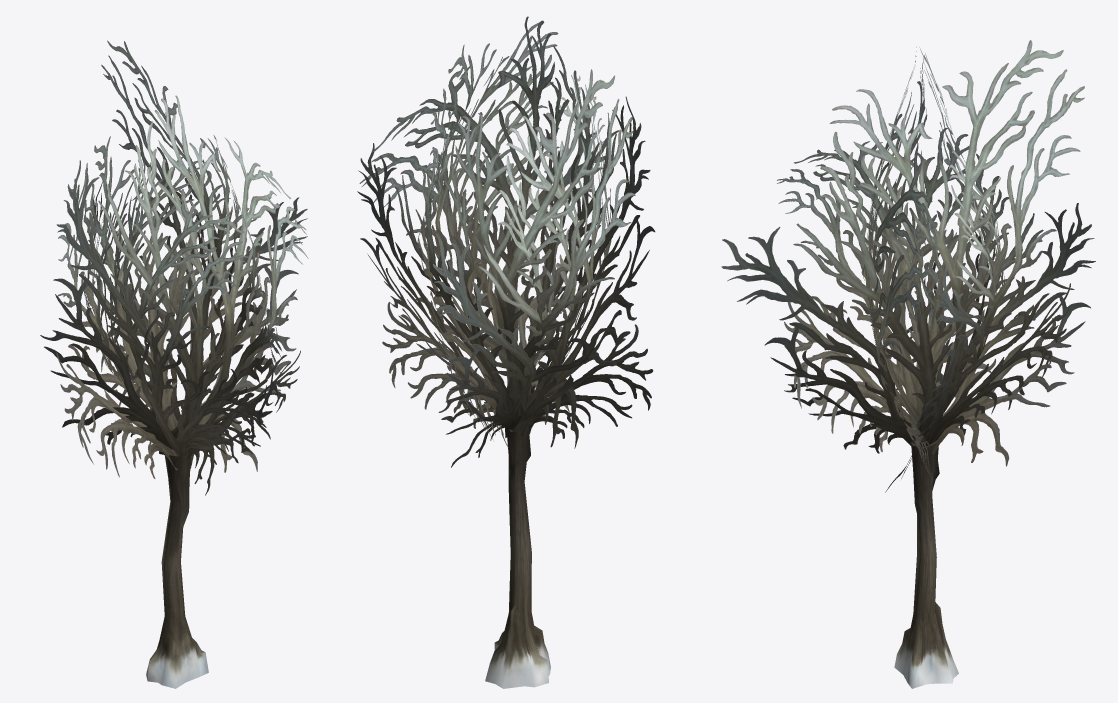
File: dragonblight_tree01.obj
The picture shows the model from 3 angles, left to right: view 1: azimuth 30°, elevation 25°; view 2: azimuth 150°, elevation 25°; view 3: azimuth 270°, elevation 25°; orthographic projection. The views are drawn at different scales.
Visible parts, largest first — view 1: Geoset1, Geoset0; view 2: Geoset1, Geoset0; view 3: Geoset1, Geoset0.
Part boxes in pixels (x1=…): Geoset1: x1=40, y1=40, x2=308, y2=495; Geoset0: x1=146, y1=454, x2=208, y2=688; Geoset1: x1=357, y1=16, x2=655, y2=467; Geoset0: x1=485, y1=426, x2=550, y2=688; Geoset1: x1=721, y1=40, x2=1095, y2=492; Geoset0: x1=894, y1=443, x2=958, y2=688.
Size of the model in its own units: 14.76 by 31.06 by 17.89.
Materials: 2 (2 with a texture image).
